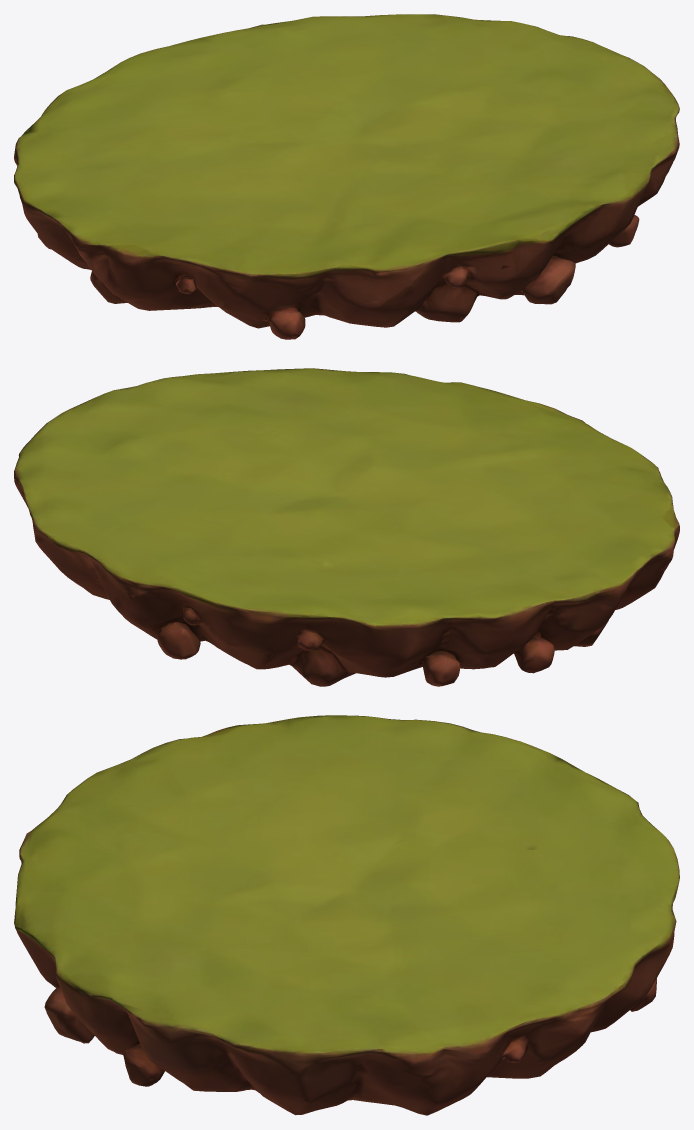
The model's file is island.glb.
3 renders of one model, top to bottom at view 1: azimuth 30°, elevation 25°; view 2: azimuth 150°, elevation 25°; view 3: azimuth 270°, elevation 25°, orthographic. The views are drawn at different scales.
Visible parts, largest first — view 1: island; view 2: island; view 3: island.
Boxes of the visible parts, box(x1,y1,x2,y2) form: island: box(14, 14, 679, 339); island: box(14, 368, 679, 686); island: box(14, 715, 679, 1115).
Bounding box in the file's own units: 6 × 0.9873 × 5.
Materials: 1 (1 with a texture image).
